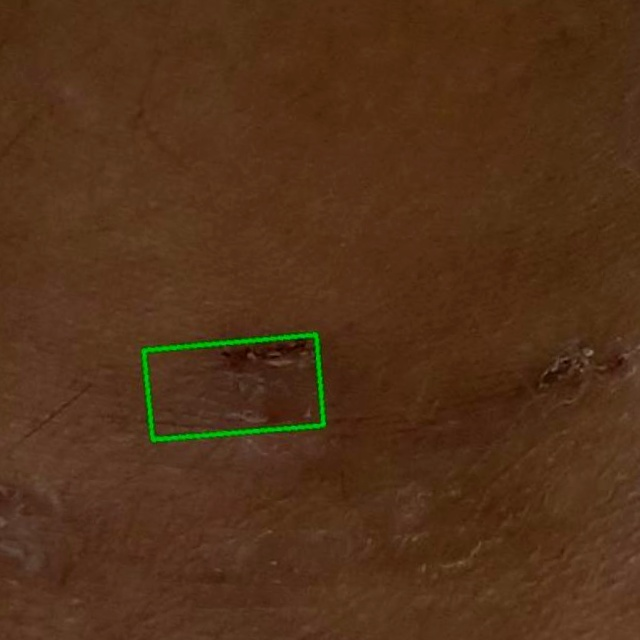Contact Dermatitis: (143, 335, 323, 440)
